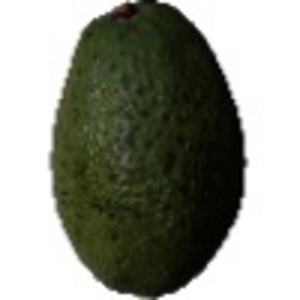abacate: (48, 1, 255, 299)
